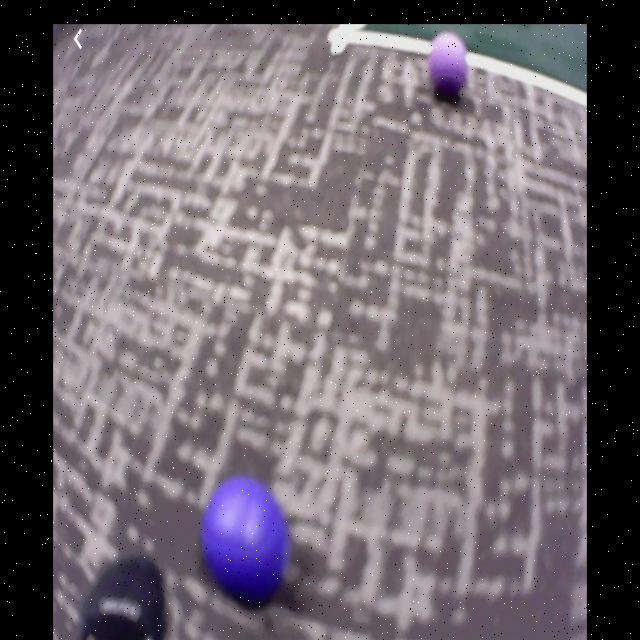ball: (204, 476, 289, 602), (431, 34, 468, 95)
